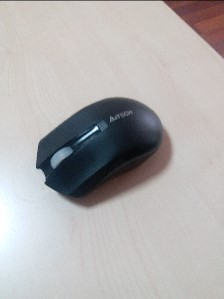mouse: (36, 96, 165, 200)
